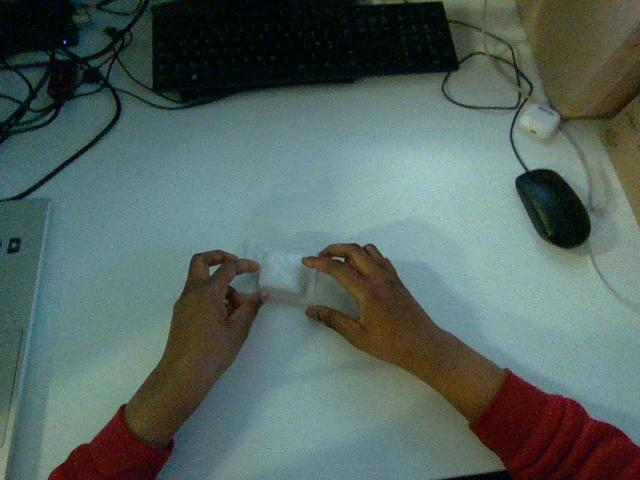gauze: (257, 248, 315, 303)
